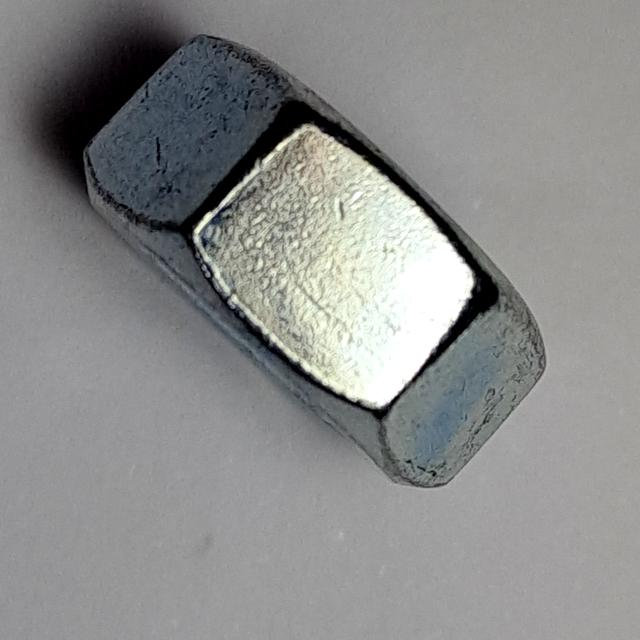Side_Excellent: (81, 28, 555, 499)
